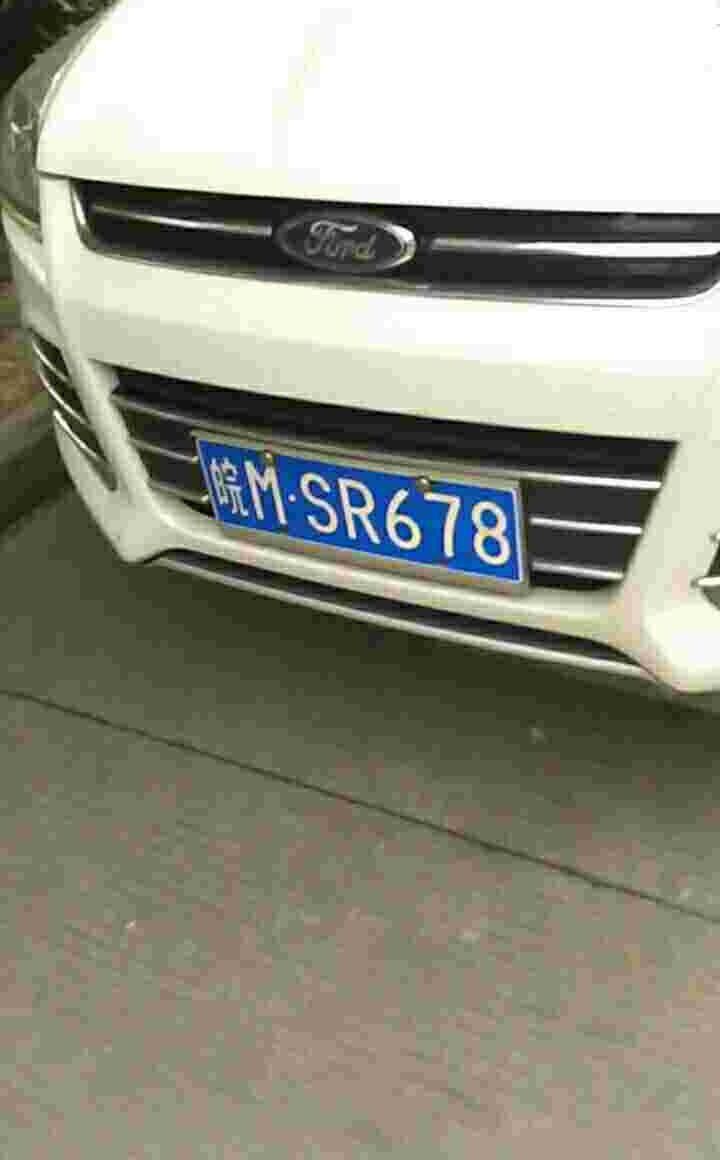license_plate: (197, 439, 527, 581)
